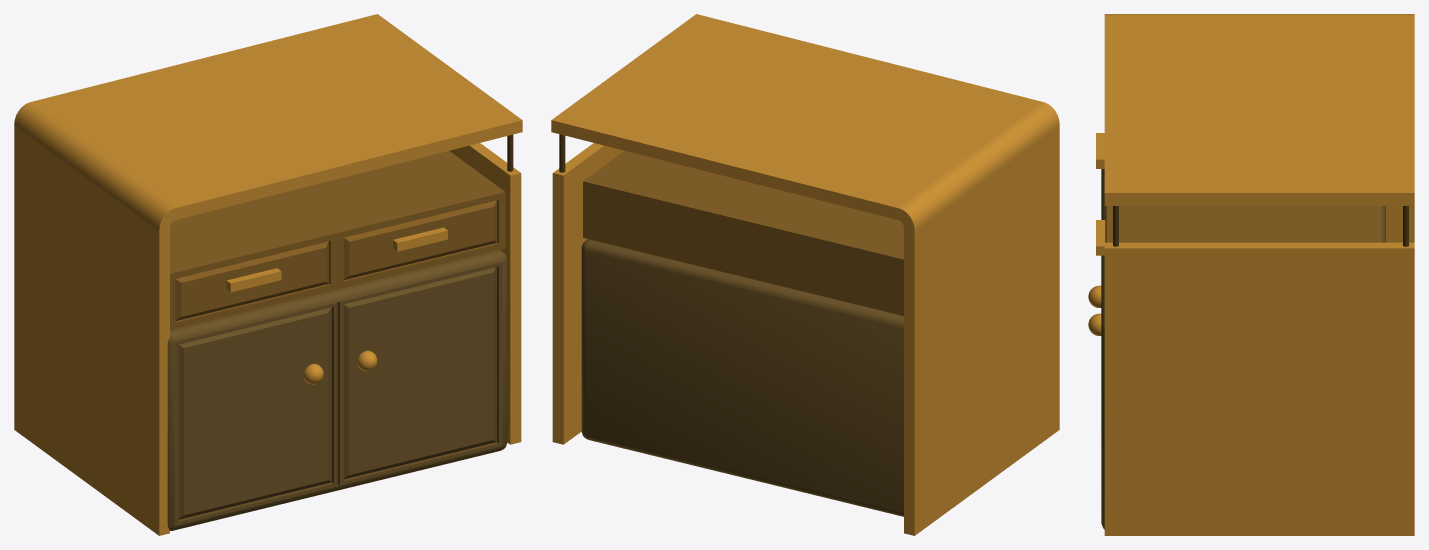
File: Unique Desk.fbx
3 renders of one model, left to right at view 1: azimuth 30°, elevation 25°; view 2: azimuth 150°, elevation 25°; view 3: azimuth 270°, elevation 25°, orthographic. The views are drawn at different scales.
Visible parts, largest first — view 1: Box002, ChamferBox001, Box001, Box006, Box005, Box004; view 2: Box002, ChamferBox001, Box001, Box006; view 3: Box006, Box002, Box001, ChamferBox001.
Boxes of the visible parts, x1=… form: Box002: x1=14, y1=14, x2=522, y2=535; ChamferBox001: x1=167, y1=250, x2=507, y2=530; Box001: x1=170, y1=151, x2=505, y2=330; Box006: x1=449, y1=143, x2=521, y2=444; Box005: x1=226, y1=268, x2=281, y2=292; Box004: x1=393, y1=227, x2=447, y2=251; Box002: x1=551, y1=14, x2=1059, y2=535; ChamferBox001: x1=581, y1=239, x2=903, y2=516; Box001: x1=583, y1=151, x2=903, y2=315; Box006: x1=552, y1=143, x2=624, y2=444; Box006: x1=1104, y1=242, x2=1414, y2=535; Box002: x1=1104, y1=14, x2=1414, y2=242; Box001: x1=1105, y1=206, x2=1381, y2=242; ChamferBox001: x1=1101, y1=169, x2=1385, y2=529.
Size of the model in its own units: 35.84 by 30.84 by 26.08.
